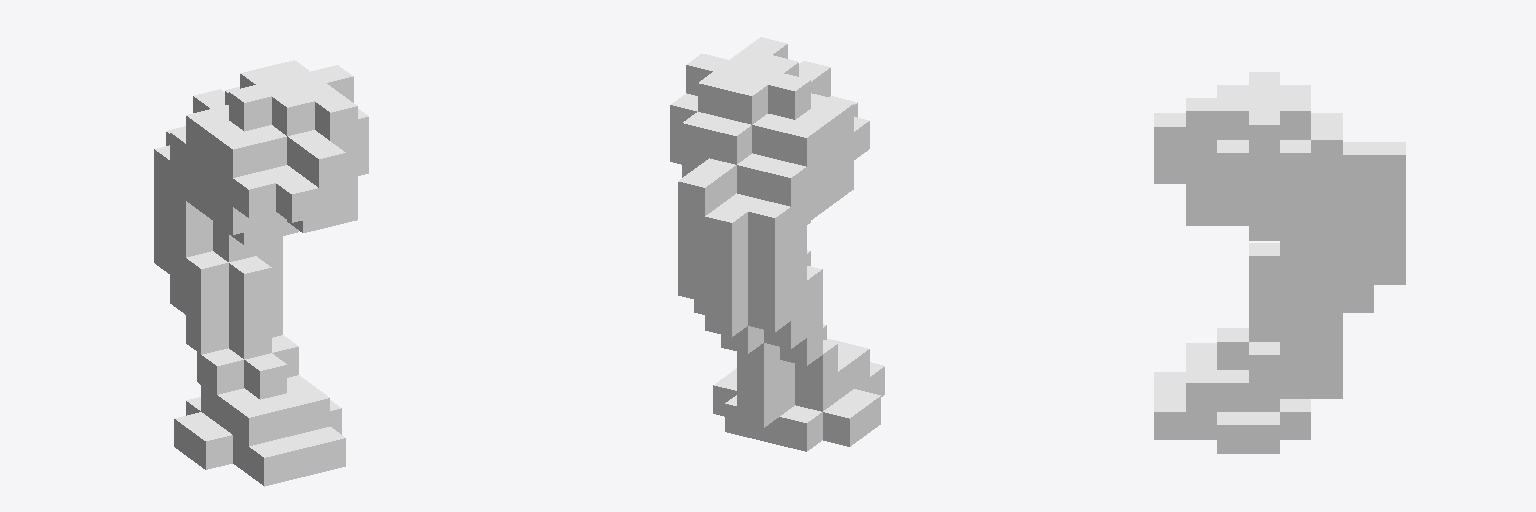
The model's file is Wolf-4.obj.
3 renders of one model, left to right at view 1: azimuth 30°, elevation 25°; view 2: azimuth 150°, elevation 25°; view 3: azimuth 270°, elevation 25°, orthographic.
Parts seen in each view (by area): view 1: object 1; view 2: object 1; view 3: object 1.
Part boxes in pixels (bbox=[...]): object 1: bbox=[154, 60, 368, 486]; object 1: bbox=[670, 37, 884, 451]; object 1: bbox=[1154, 72, 1405, 453].
Bounding box in the file's own units: 0.6 × 1.2 × 0.8.